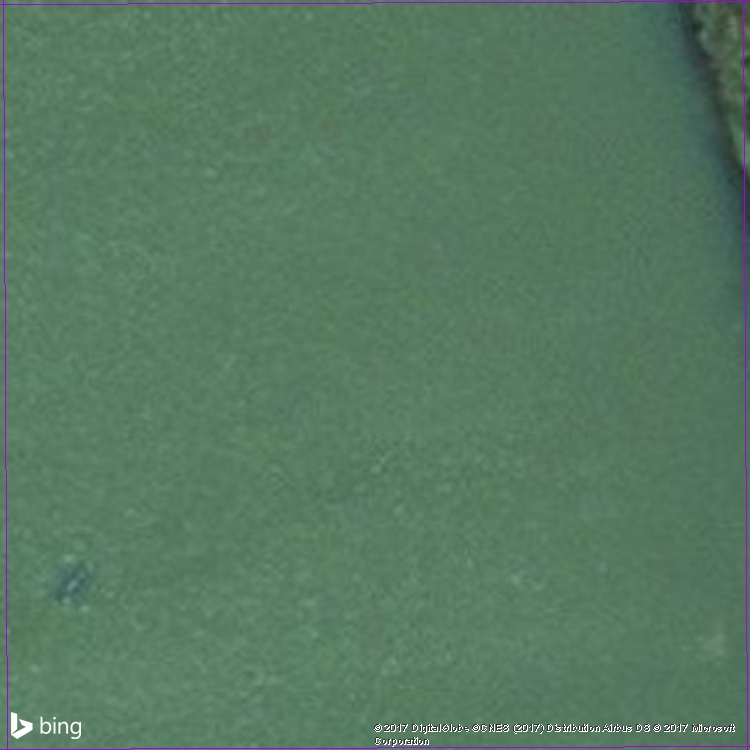boat: (43, 553, 103, 613)
